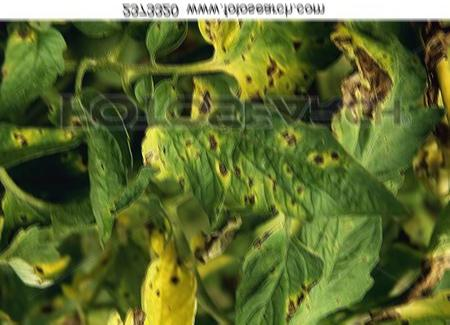Tomato Early blight leaf: (134, 116, 402, 221), (337, 20, 432, 157), (207, 23, 335, 111), (1, 25, 71, 115), (104, 254, 193, 324)
